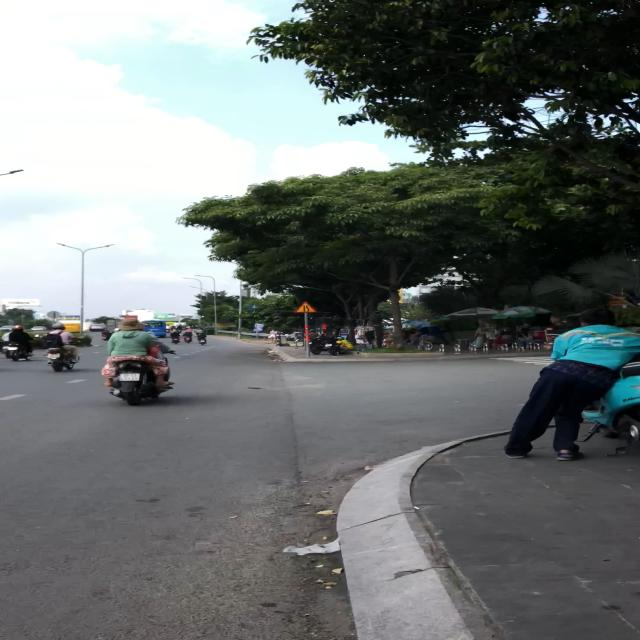Bien bao duong bi thu hep: (292, 300, 318, 312)
